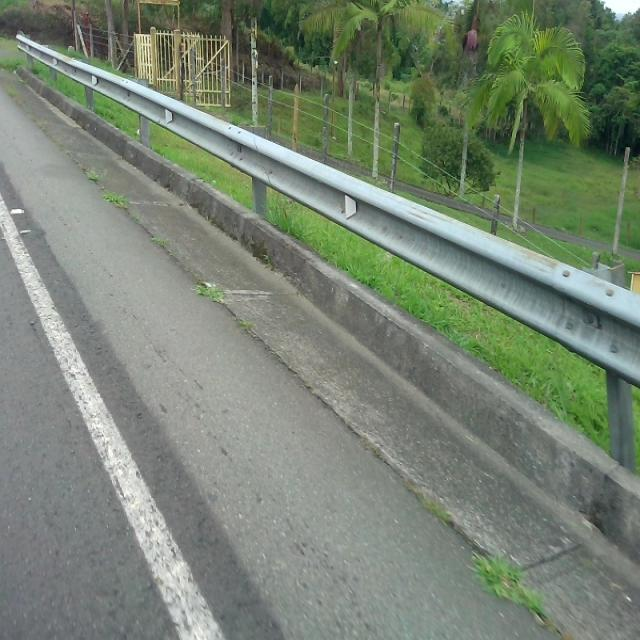DITCH: (1, 22, 639, 638), (1, 64, 638, 638), (2, 66, 638, 638)
